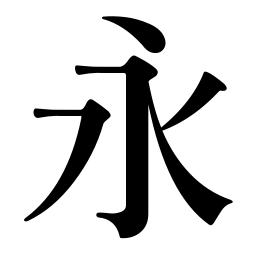D: (99, 11, 167, 53)
HSZ: (117, 54, 160, 88)
Hs: (72, 61, 107, 77)
Ne: (185, 191, 237, 226)
PNc: (154, 108, 184, 148)
PZe: (21, 195, 50, 224)
Ps: (194, 67, 231, 101)
SG: (94, 201, 152, 241)
Sm: (123, 133, 151, 167)
TPZ: (73, 97, 112, 142)
Ts: (31, 105, 64, 122)
